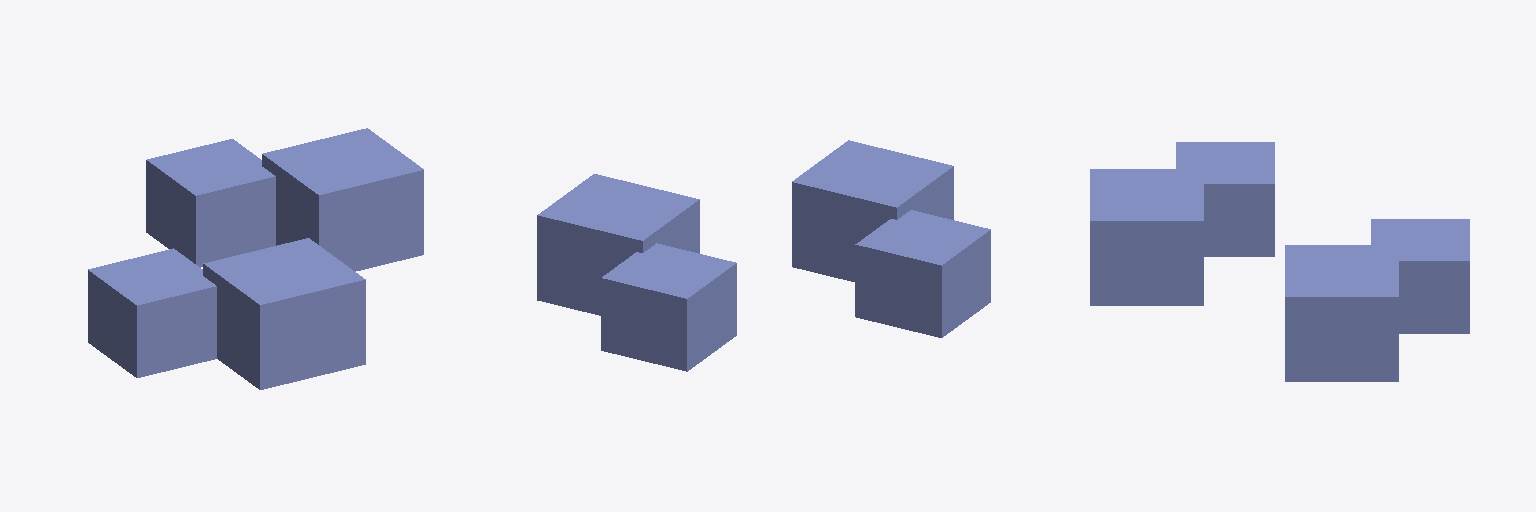
Rendered from CollisionModelBoxes001.obj.
The picture shows the model from 3 angles: view 1: azimuth 30°, elevation 25°; view 2: azimuth 150°, elevation 25°; view 3: azimuth 270°, elevation 25°; orthographic projection.
Parts seen in each view (by area): view 1: Box03, Box02, Box01; view 2: Box03, Box02, Box01; view 3: Box03, Box02, Box01.
Boxes of the visible parts, box(x1,y1,x2,y2) form: Box03: box(146, 128, 423, 271); Box02: box(203, 238, 365, 389); Box01: box(88, 248, 216, 377); Box03: box(537, 174, 736, 371); Box02: box(792, 140, 953, 281); Box01: box(855, 210, 990, 337); Box03: box(1285, 219, 1469, 381); Box02: box(1090, 169, 1203, 305); Box01: box(1176, 142, 1274, 256).
Size of the model in its own units: 75.38 by 17.92 by 72.59.